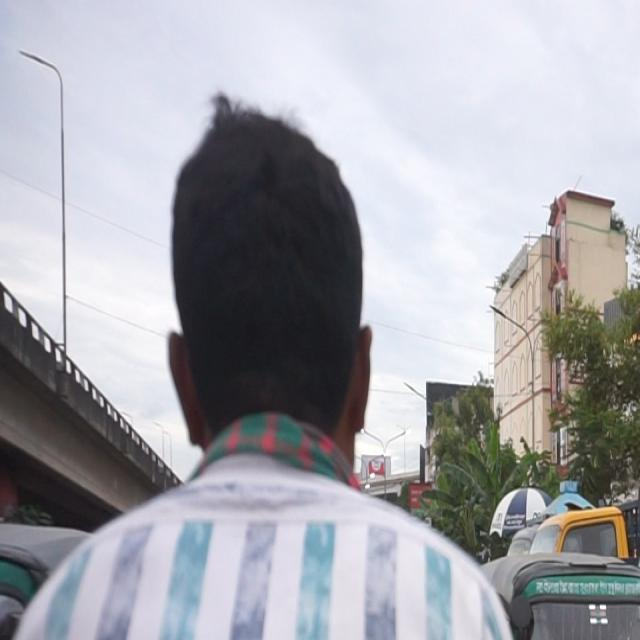van: (614, 416, 640, 640)
